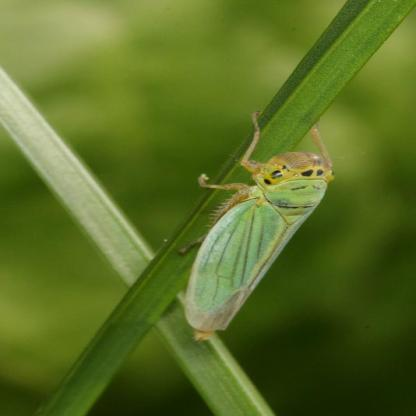Green-Leafhopper: (181, 121, 335, 341)
